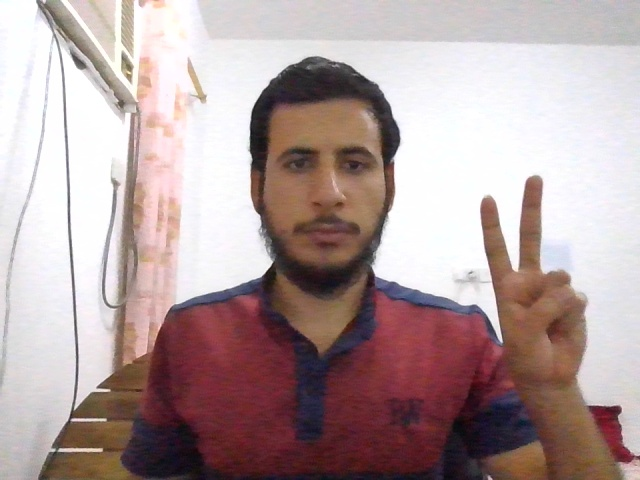Two: (481, 175, 591, 384)
